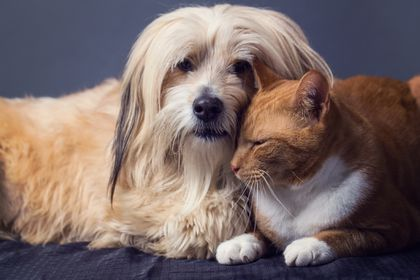Cat: (218, 58, 420, 274)
Dog: (1, 1, 313, 277)
